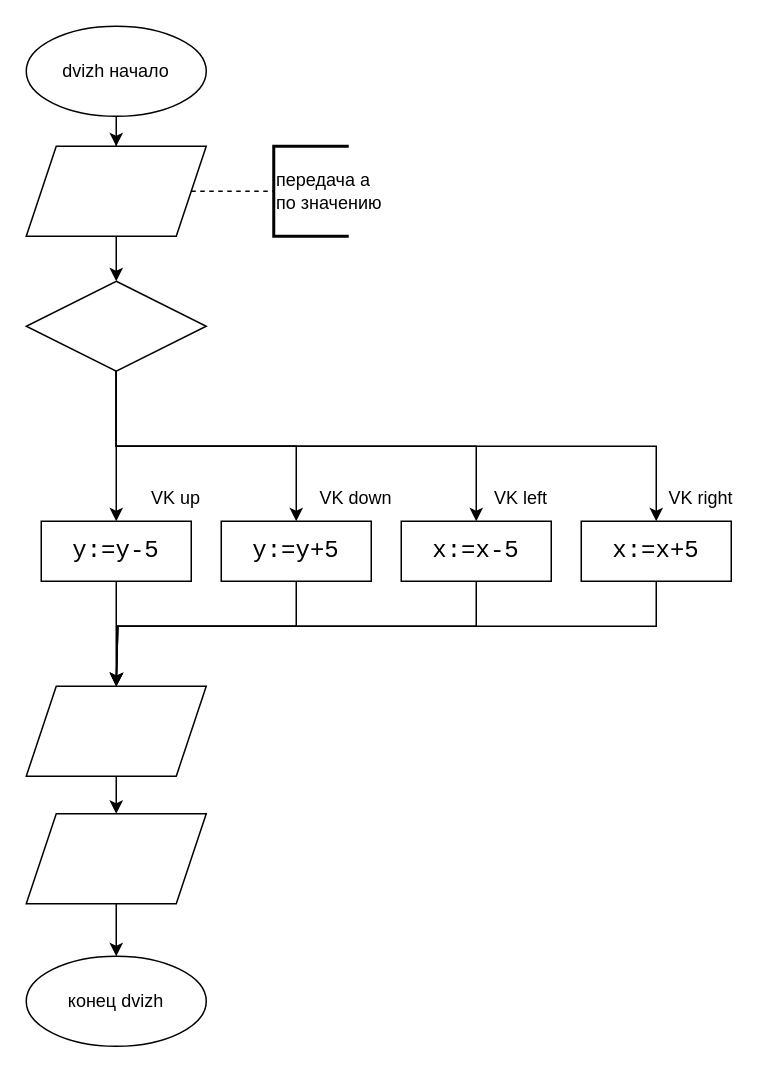
This 773x1073 diagram has some shape labels left out. The shapes that lost their labels are listed below. From the top down, each one's centre as x and y in pixels, then its label:
At (x=115, y=190): "инициализация а".
At (x=115, y=325): "a=".
At (x=115, y=730): "window.clear".
At (x=115, y=858): "возврат а".
